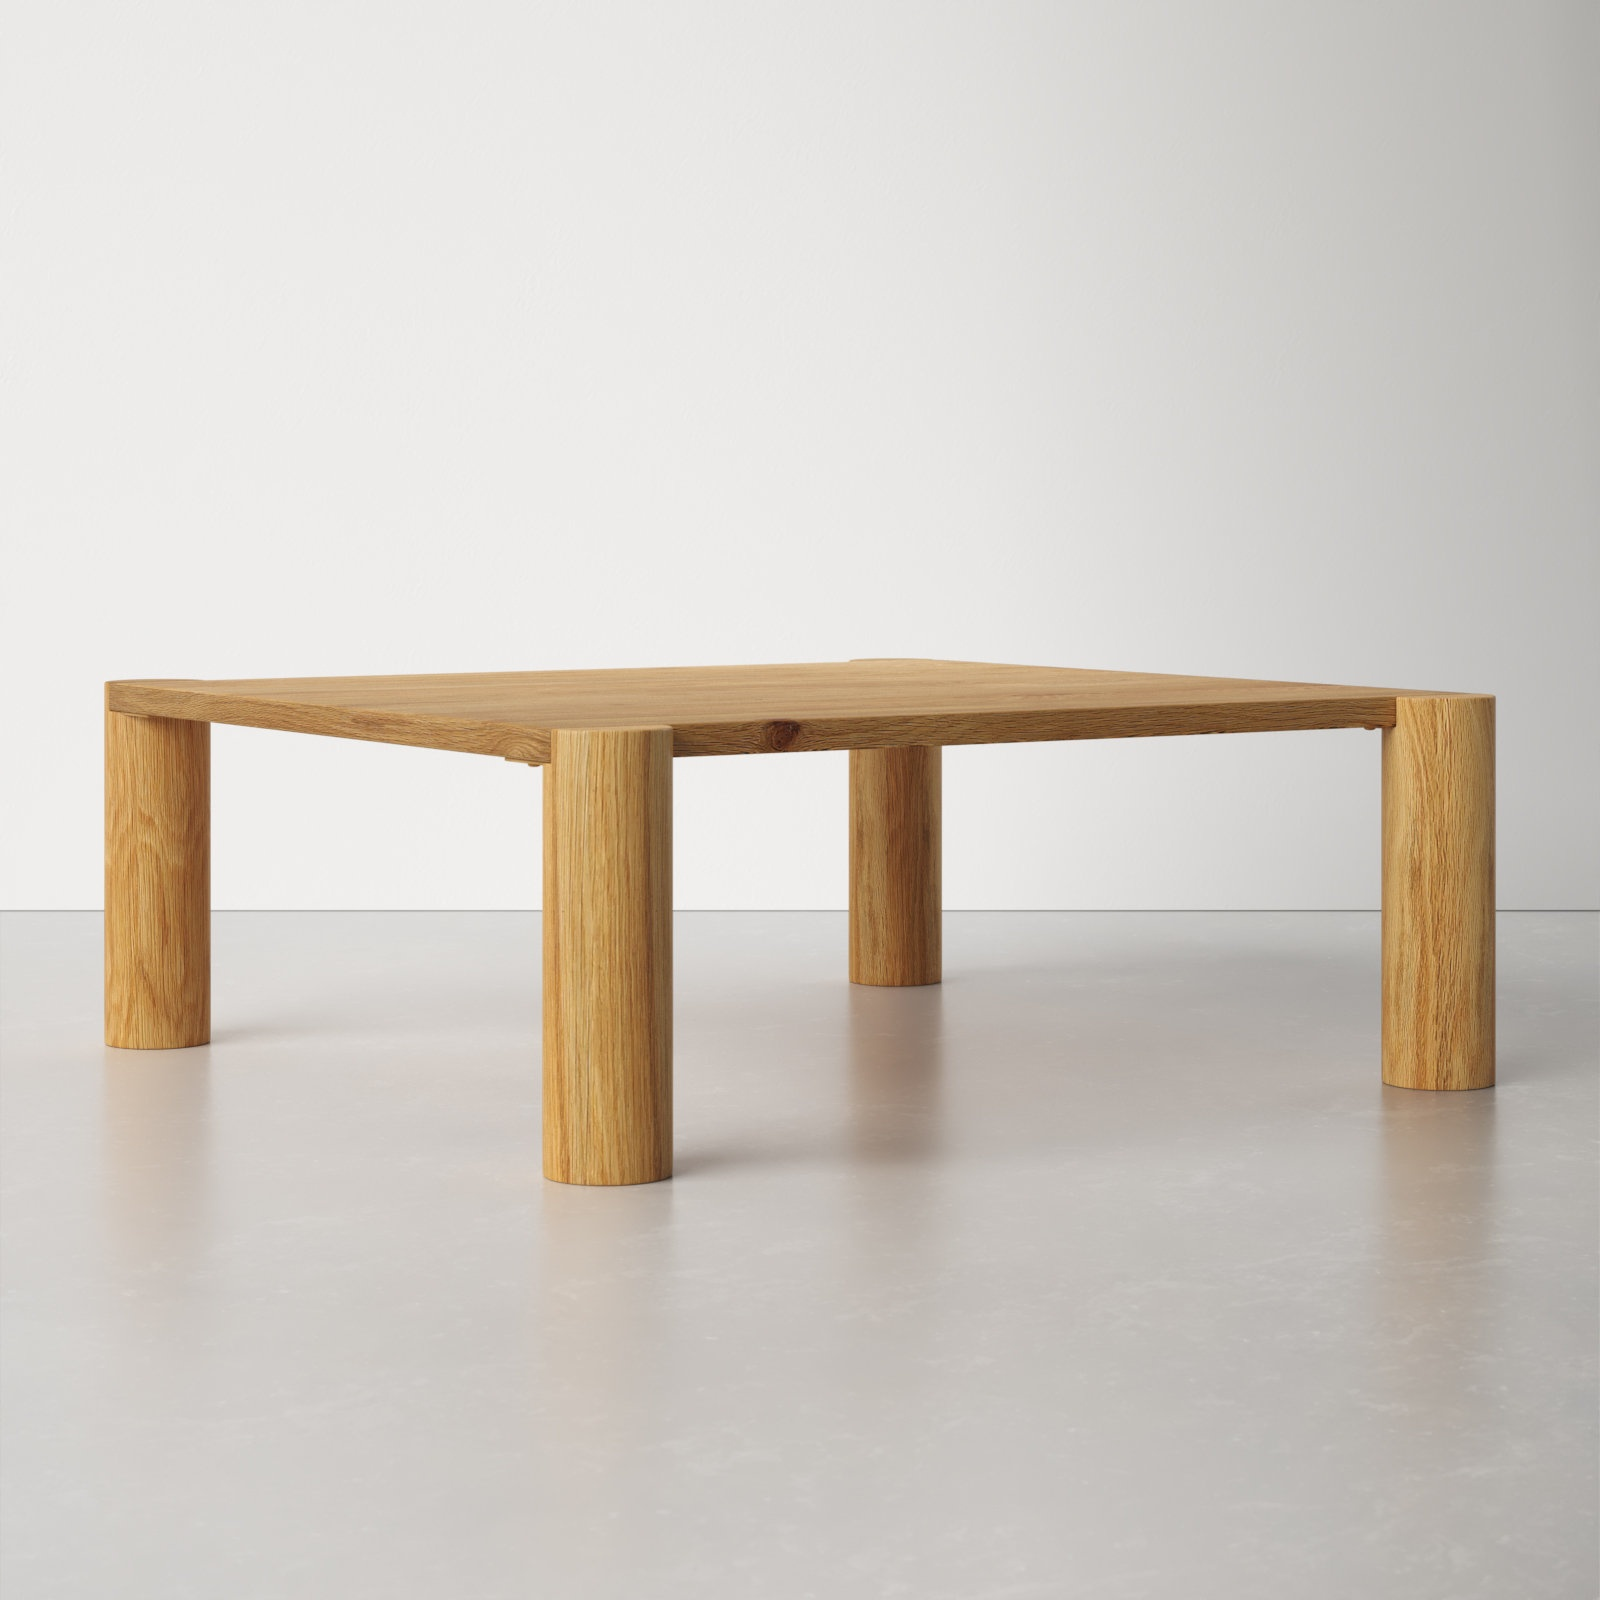obstacle: (105, 659, 1495, 1184)
